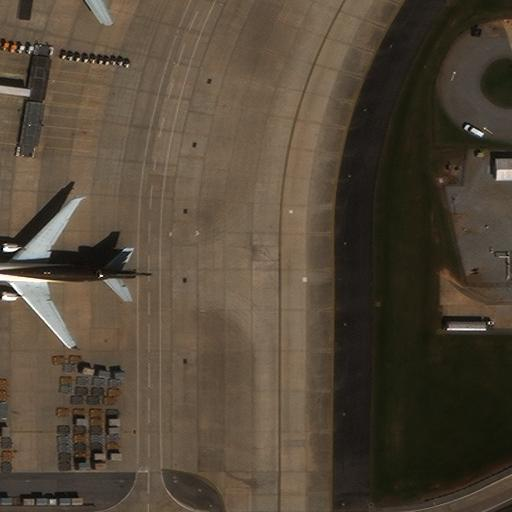Large Civil Transport: (0, 198, 151, 348)
